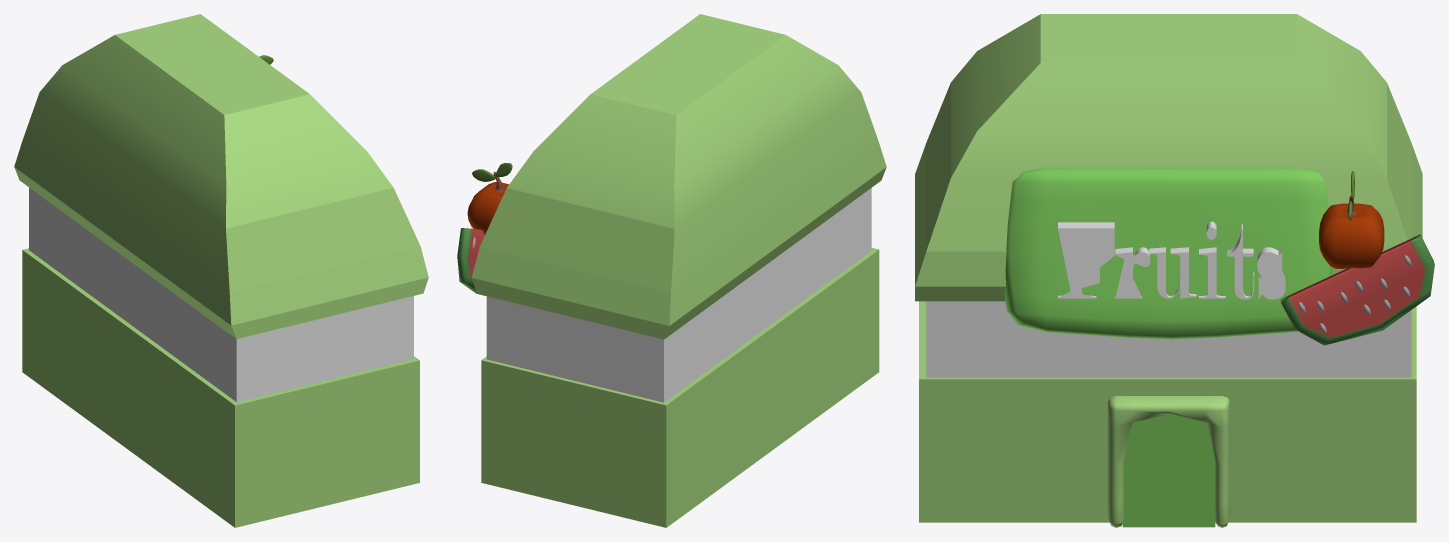
The model's file is Fruitsshop1.fbx.
The picture shows the model from 3 angles, left to right: view 1: azimuth 30°, elevation 25°; view 2: azimuth 150°, elevation 25°; view 3: azimuth 270°, elevation 25°; orthographic projection. The views are drawn at different scales.
Visible parts, largest first — view 1: pCube1, pCube10; view 2: pCube1 (×2), pCube10, pCube22; view 3: pCube1 (×2), pCube10, pCube2, pCube11, typeMesh1, pCube3, pCube22.
Part boxes in pixels (left/top/right/bottom): pCube1: left=14, top=14, right=428, bottom=401; pCube10: left=22, top=248, right=419, bottom=527; pCube1 (×2): left=457, top=14, right=886, bottom=402; pCube10: left=481, top=248, right=879, bottom=527; pCube22: left=467, top=171, right=508, bottom=234; pCube1 (×2): left=915, top=14, right=1434, bottom=377; pCube10: left=919, top=301, right=1416, bottom=522; pCube2: left=1004, top=167, right=1332, bottom=339; pCube11: left=1122, top=414, right=1215, bottom=527; typeMesh1: left=1058, top=221, right=1285, bottom=299; pCube3: left=1107, top=396, right=1230, bottom=527; pCube22: left=1319, top=195, right=1384, bottom=268.
Bounding box in the file's own units: 7.57 × 11.55 × 12.75.
